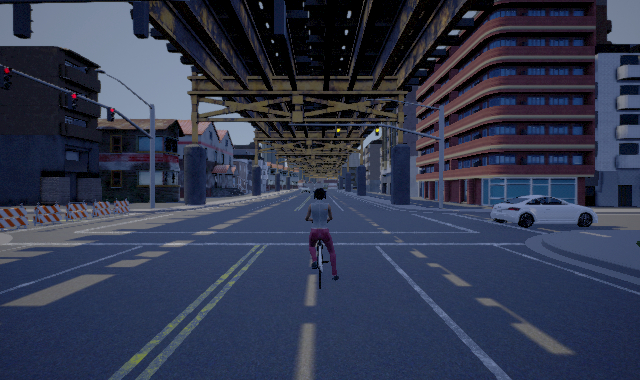bike: (304, 186, 340, 290)
traffic_light: (1, 66, 12, 90), (68, 92, 78, 110), (107, 107, 115, 122), (375, 125, 379, 136), (336, 125, 340, 136)
vehicle: (490, 195, 598, 228)
